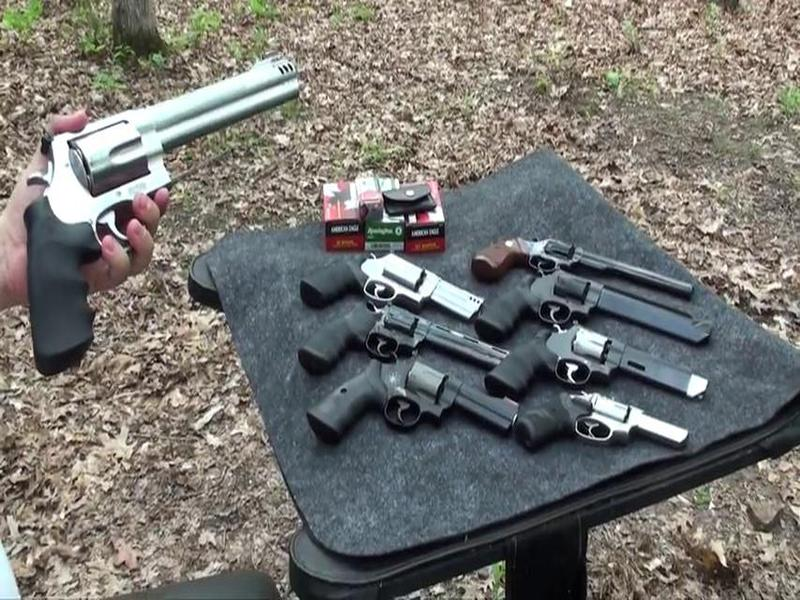Revolver: (31, 68, 297, 363)
